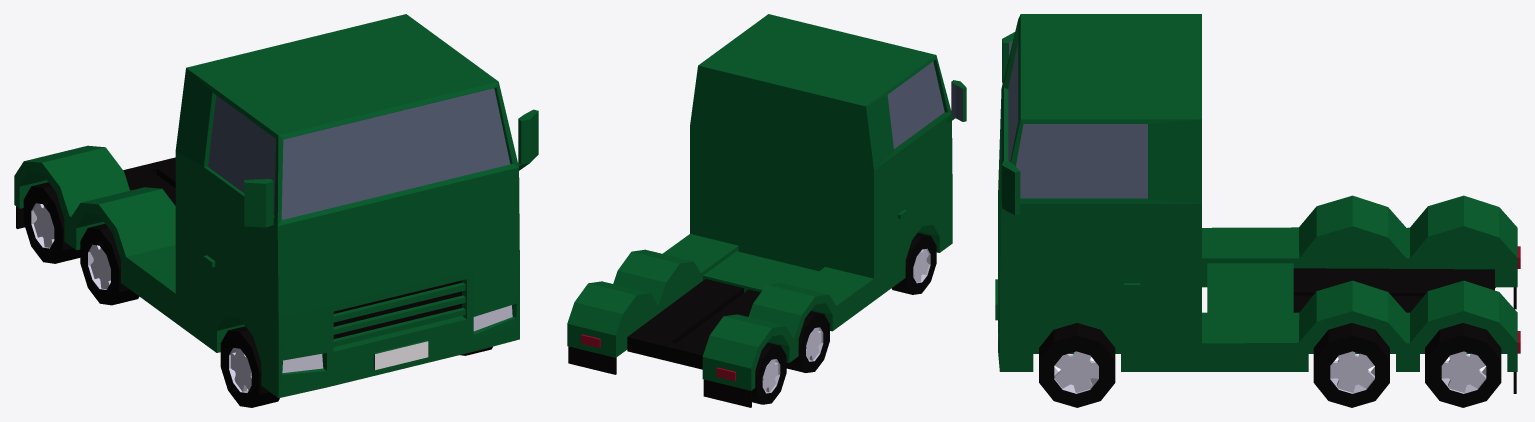
File: mod-cavalo-mecanico.gltf
3 views of the same model, side by side, from view 1: azimuth 30°, elevation 25°; view 2: azimuth 150°, elevation 25°; view 3: azimuth 270°, elevation 25° (orthographic). The views are drawn at different scales.
Parts seen in each view (by area): view 1: Truck, Truck wheel front left; view 2: Truck, Truck wheel front left; view 3: Truck, Truck wheel front left.
Part boxes in pixels (x1,y1,x2,y2): Truck: (14,14,538,398); Truck wheel front left: (23,182,492,407); Truck: (567,14,966,407); Truck wheel front left: (752,233,936,404); Truck: (995,14,1520,393); Truck wheel front left: (1039,287,1501,407).
Bounding box in the file's own units: 3 × 2.83 × 4.74.
